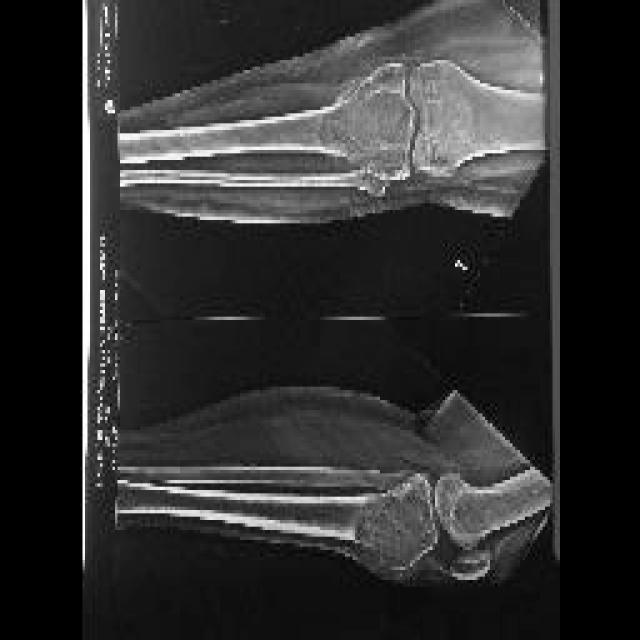bone-cancer: (320, 63, 416, 196), (351, 485, 438, 579)
